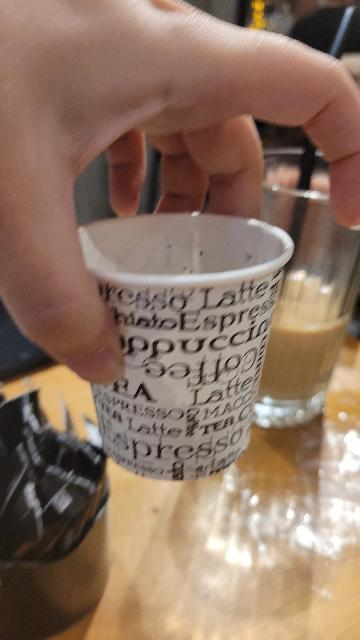Kagit: (75, 213, 294, 480)
